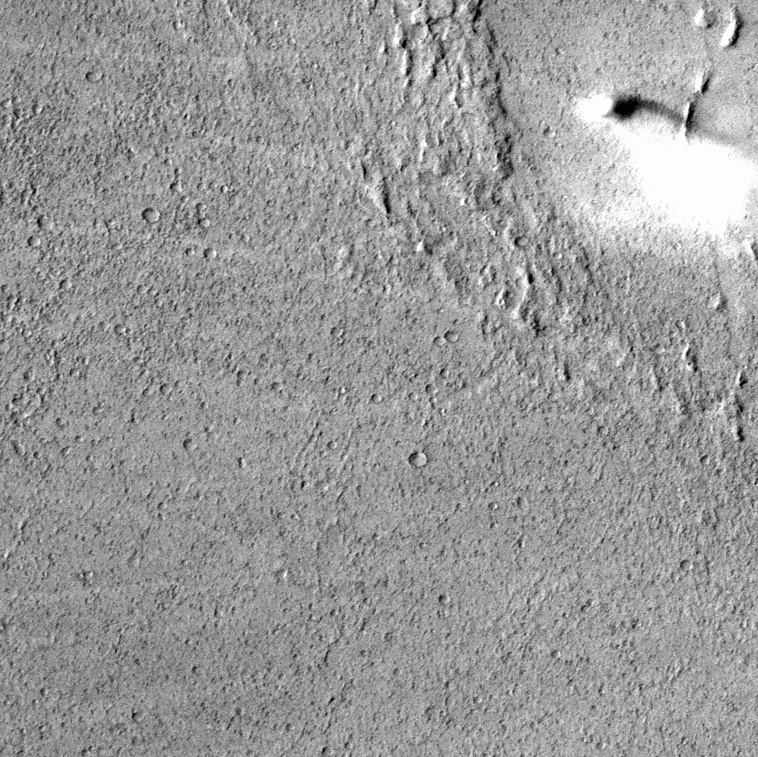dust_devil: (571, 87, 758, 240)
